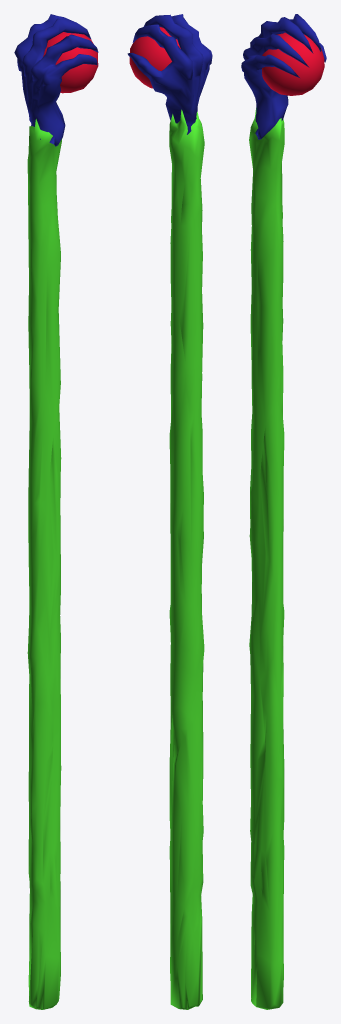
The model's file is MagicStaff.obj.
The picture shows the model from 3 angles, left to right: view 1: azimuth 30°, elevation 25°; view 2: azimuth 150°, elevation 25°; view 3: azimuth 330°, elevation 25°; orthographic projection.
Parts seen in each view (by area): view 1: Staff_low, Hand_low, Orb_low; view 2: Staff_low, Hand_low, Orb_low; view 3: Staff_low, Hand_low, Orb_low.
Part boxes in pixels (bbox=[...]): Staff_low: bbox=[27, 119, 62, 1009]; Hand_low: bbox=[14, 14, 98, 146]; Orb_low: bbox=[43, 32, 98, 93]; Staff_low: bbox=[169, 109, 204, 1009]; Hand_low: bbox=[127, 14, 212, 134]; Orb_low: bbox=[129, 27, 180, 88]; Staff_low: bbox=[249, 108, 284, 1009]; Hand_low: bbox=[241, 14, 326, 139]; Orb_low: bbox=[262, 32, 324, 95].
Bounding box in the file's own units: 4.97 × 66.02 × 5.02.
